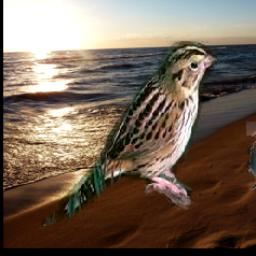Sparrow: (42, 41, 218, 226)
Woodpecker: (247, 117, 256, 191)
